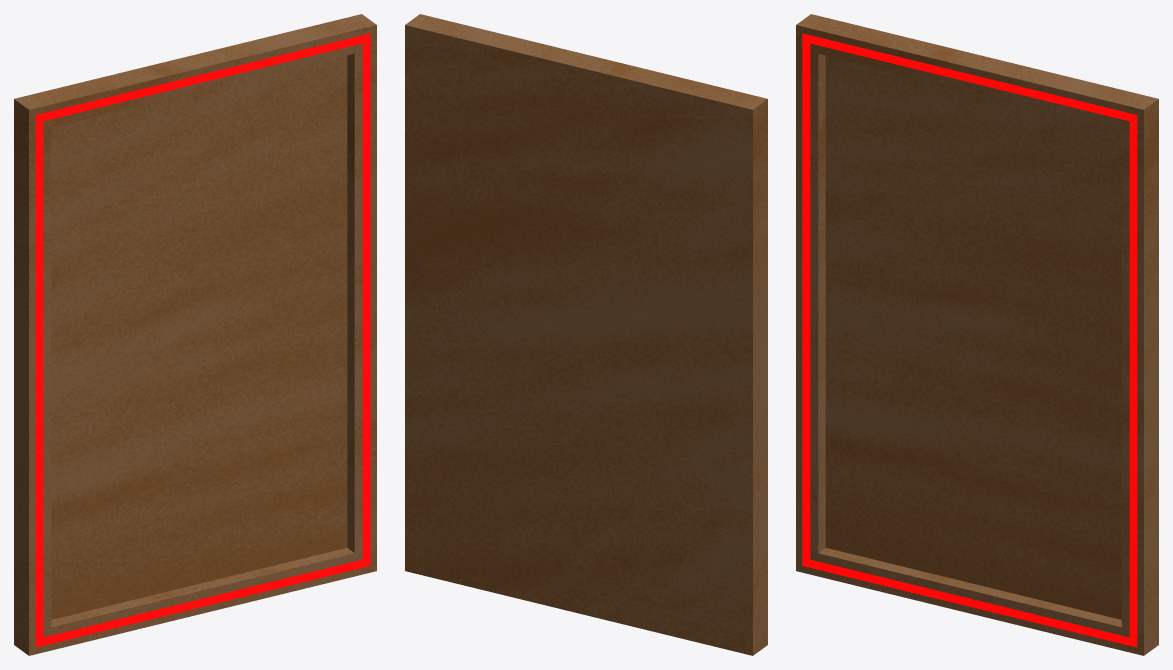
Rendered from CartaVermelha.fbx.
3 views of the same model, side by side, from view 1: azimuth 30°, elevation 25°; view 2: azimuth 150°, elevation 25°; view 3: azimuth 330°, elevation 25° (orthographic).
Parts seen in each view (by area): view 1: CartaVemelha; view 2: CartaVemelha; view 3: CartaVemelha.
Boxes of the visible parts, x1,y1,x2,y2 form: CartaVemelha: (14,14,376,655); CartaVemelha: (405,14,767,655); CartaVemelha: (796,14,1158,655).
Size of the model in its own units: 200 by 300 by 15.
